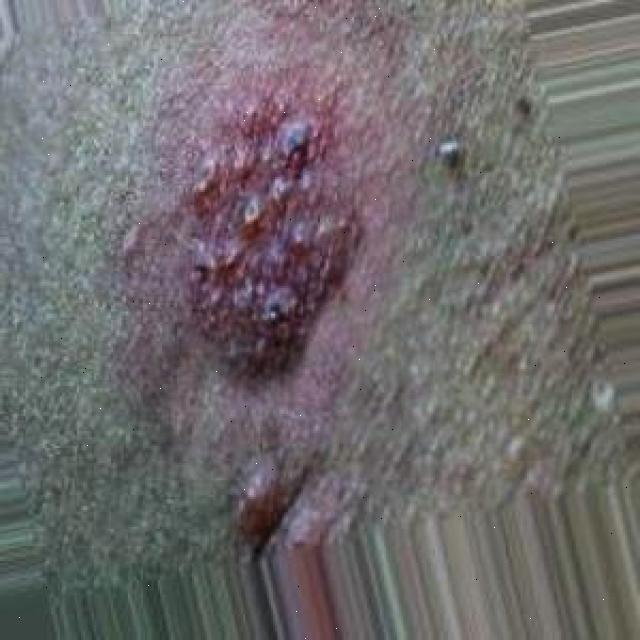Shingles: (184, 81, 359, 372)
